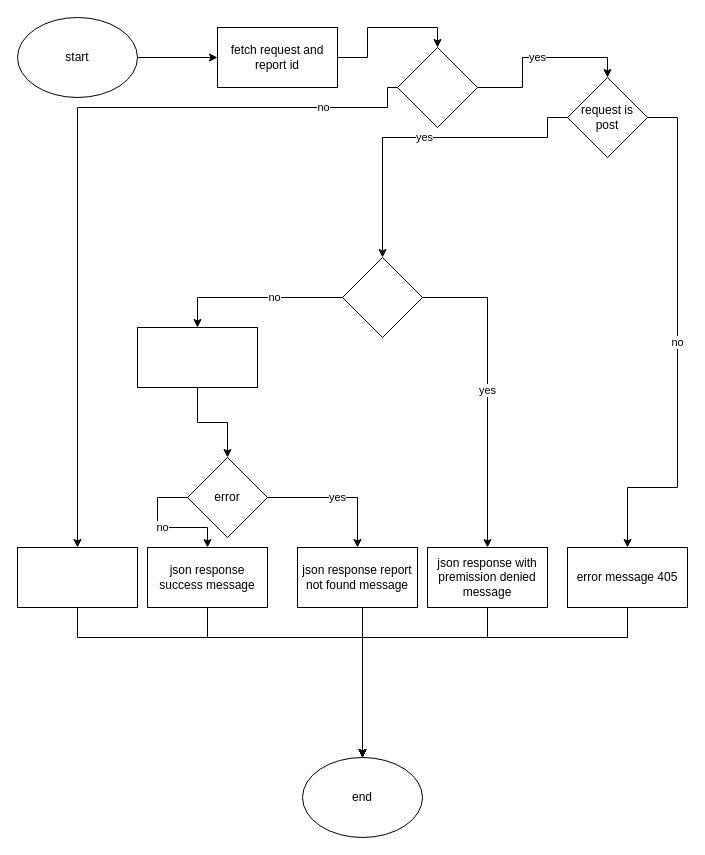
Image size: 705x855. Some labels were removed from this diagram. The box of each missing label's shape, as (x1, y1, x2, y2) in pixels:
delete the report: (136, 326, 258, 388)
logged in: (396, 46, 478, 128)
redirect to login page: (16, 546, 138, 608)
user is not an admin: (342, 256, 422, 338)
